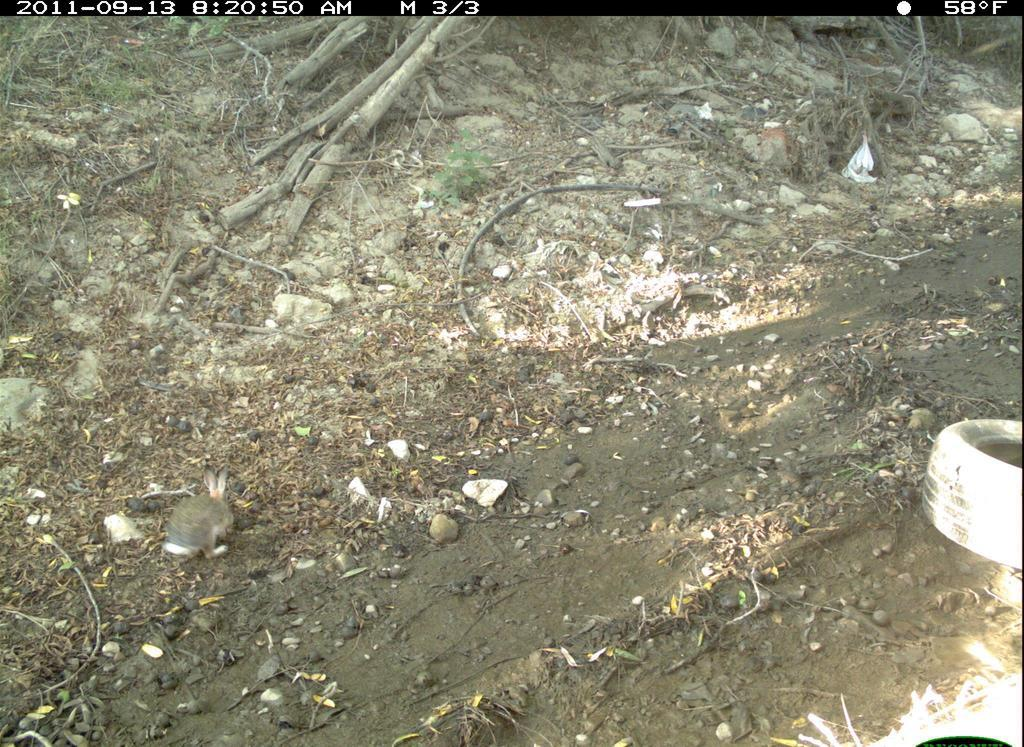rabbit: (158, 461, 240, 566)
